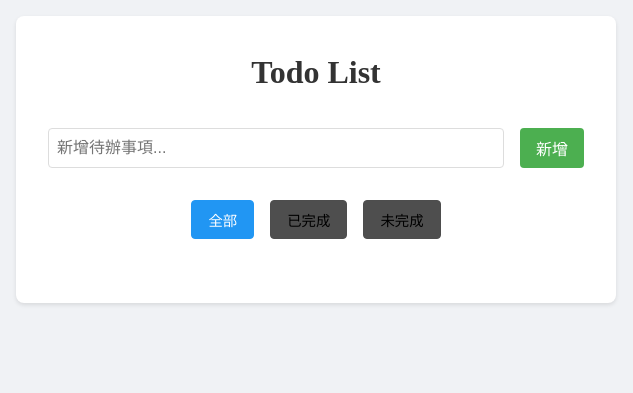
Test: TodoApp › 應該能夠新增待辦事項
模擬使用者輸入和點擊新增
Type "測試待辦事項" into the field with placeholder "新增待辦事項...".
click(276, 148); type("測試待辦事項")  # box [48,128,504,168]
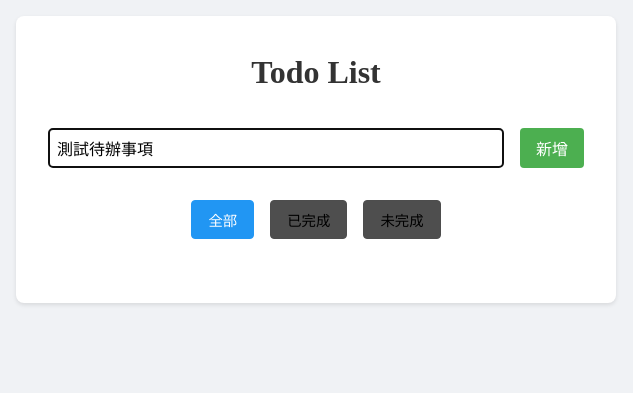
Click the button "新增".
click(552, 148)  # box [520,128,584,168]
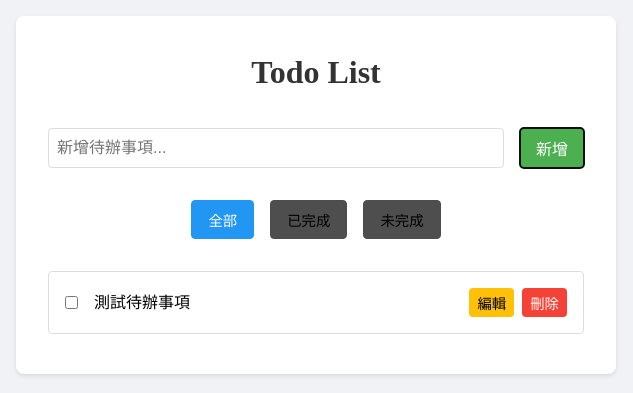
expect the text "測試待辦事項" is shown: met, box [94,294,190,310]
expect the field with placeholder "新增待辦事項..." is empty: met, box [48,128,504,168]
